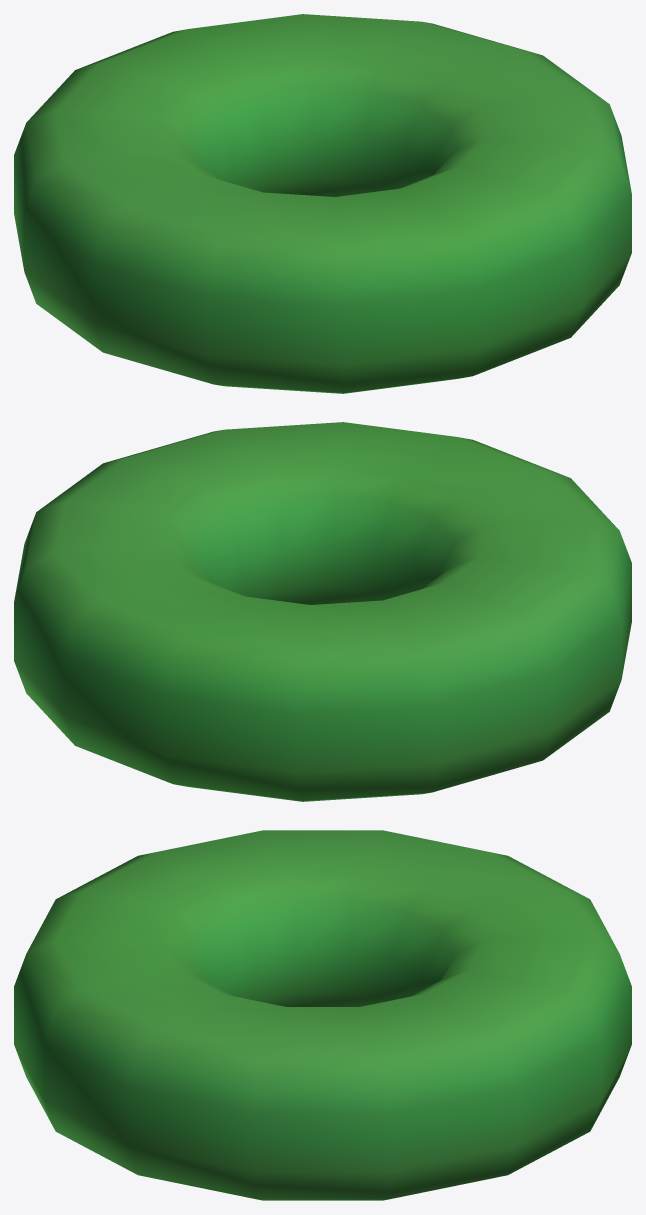
Rendered from candy_hard_4.fbx.
3 renders of one model, top to bottom at view 1: azimuth 30°, elevation 25°; view 2: azimuth 150°, elevation 25°; view 3: azimuth 270°, elevation 25°, orthographic.
Parts seen in each view (by area): view 1: c_h_4; view 2: c_h_4; view 3: c_h_4.
Boxes of the visible parts, x1,y1,x2,y2 form: c_h_4: (14, 14, 631, 393); c_h_4: (14, 422, 631, 801); c_h_4: (14, 830, 631, 1200).
Size of the model in its own units: 156 by 42.99 by 160.
